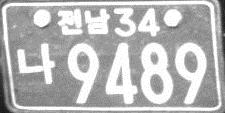3: (113, 6, 136, 38)
4: (105, 41, 139, 106), (137, 7, 161, 37)
8: (138, 41, 174, 105)
9: (66, 42, 101, 105), (174, 42, 208, 105)
나: (16, 41, 56, 84)
전남_O: (56, 7, 110, 36)
